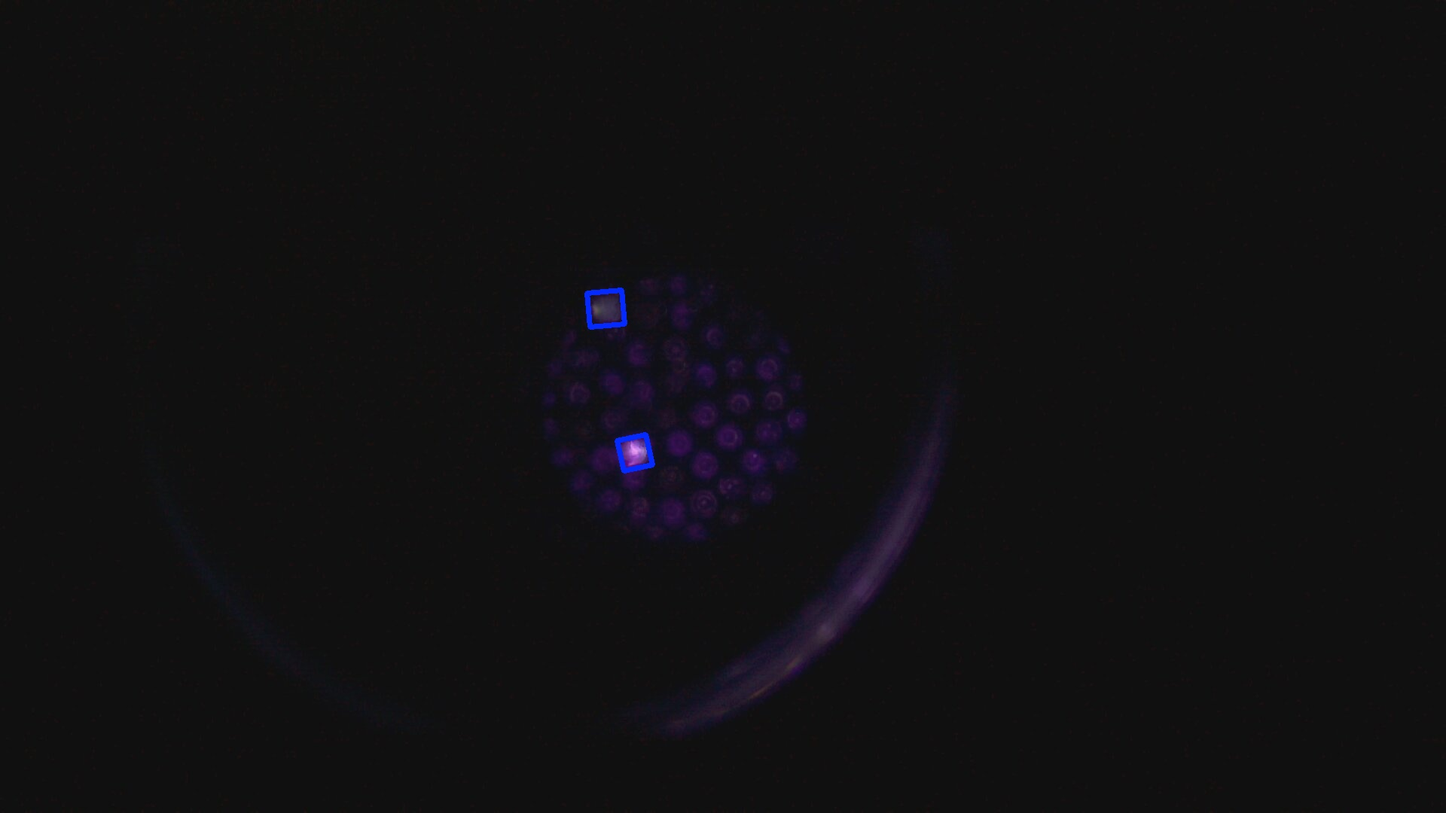plastic: (589, 293, 622, 325), (620, 437, 650, 468)
